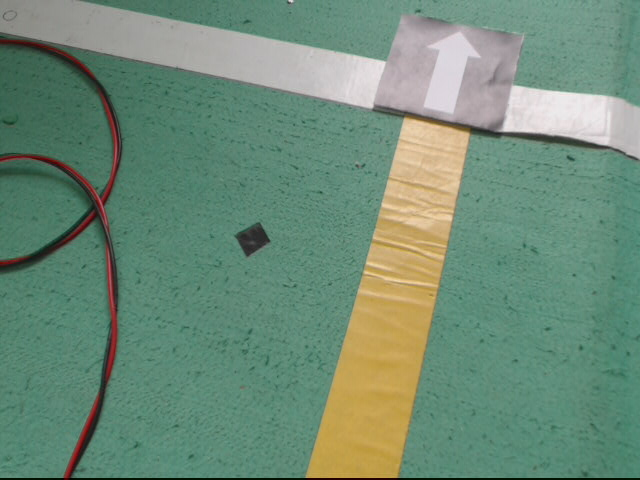straight: (372, 14, 521, 136)
